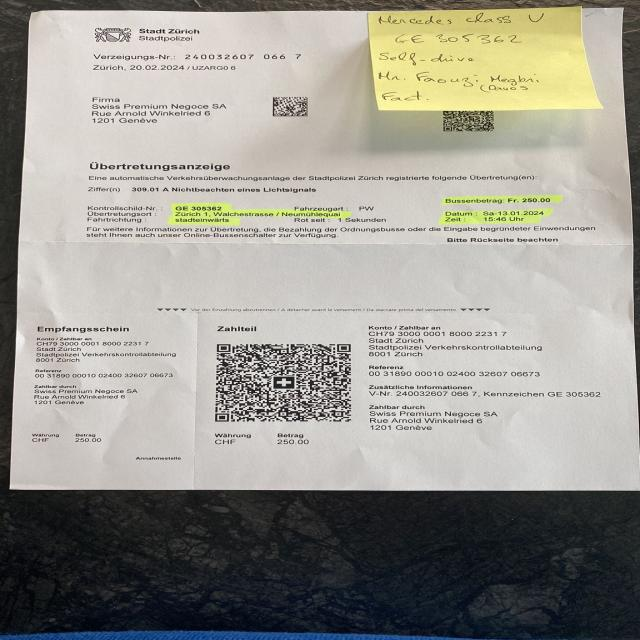paper-document-: (7, 8, 639, 492)
